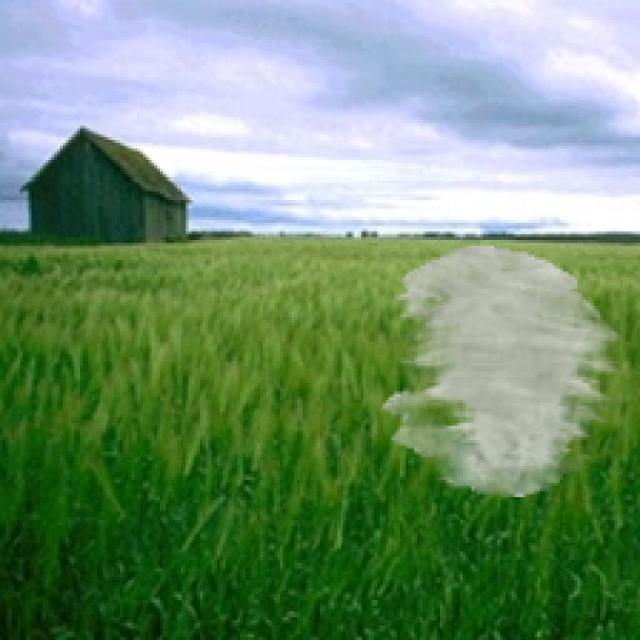smoke: (383, 246, 623, 497)
